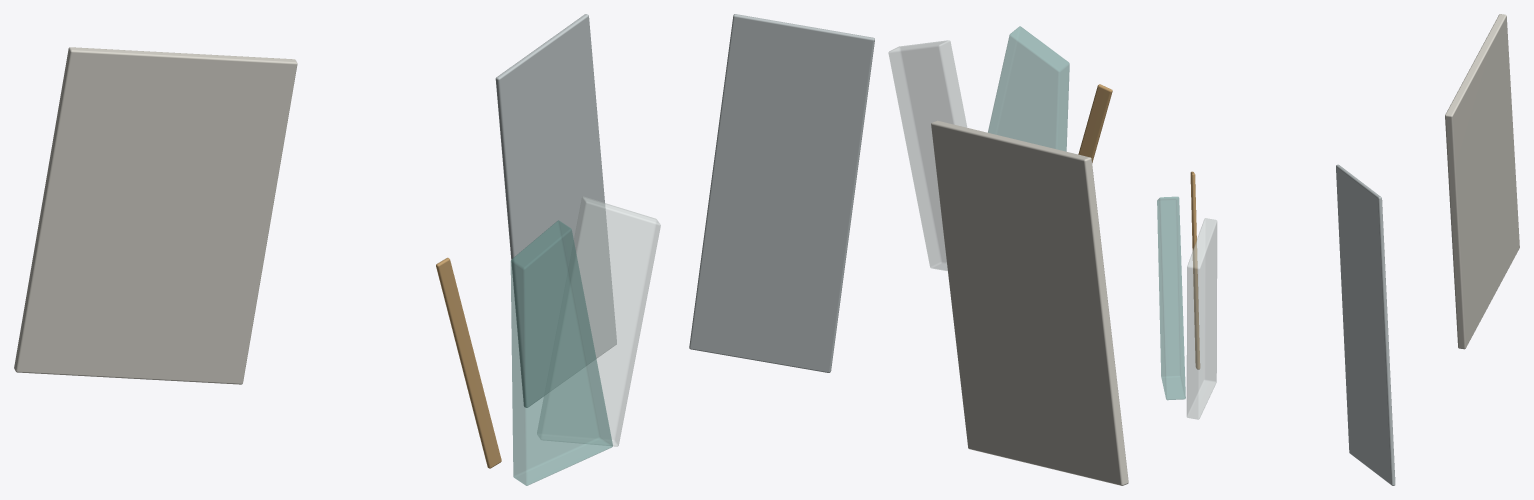
File: optical-assembly.glb
3 renders of one model, left to right at view 1: azimuth 30°, elevation 25°; view 2: azimuth 150°, elevation 25°; view 3: azimuth 270°, elevation 25°, orthographic. The views are drawn at different scales.
Visible parts, largest first — view 1: Distant mineral plane, Distant silver plane, Clear refracting plane, Main optical prism, Champagne light blade; view 2: Distant mineral plane, Distant silver plane, Clear refracting plane, Main optical prism, Champagne light blade; view 3: Distant mineral plane, Distant silver plane, Clear refracting plane, Main optical prism, Champagne light blade.
Boxes of the visible parts, x1=… form: Distant mineral plane: x1=14, y1=47, x2=297, y2=384; Distant silver plane: x1=495, y1=14, x2=616, y2=407; Clear refracting plane: x1=537, y1=196, x2=660, y2=446; Main optical prism: x1=510, y1=220, x2=612, y2=485; Champagne light blade: x1=436, y1=257, x2=501, y2=468; Distant mineral plane: x1=931, y1=120, x2=1128, y2=485; Distant silver plane: x1=689, y1=14, x2=874, y2=372; Clear refracting plane: x1=888, y1=40, x2=966, y2=271; Main optical prism: x1=988, y1=26, x2=1069, y2=151; Champagne light blade: x1=1078, y1=84, x2=1112, y2=162; Distant mineral plane: x1=1445, y1=14, x2=1519, y2=349; Distant silver plane: x1=1336, y1=164, x2=1395, y2=485; Clear refracting plane: x1=1186, y1=218, x2=1217, y2=419; Main optical prism: x1=1157, y1=196, x2=1185, y2=400; Champagne light blade: x1=1190, y1=171, x2=1200, y2=369.
Size of what is drawn, in the model's own units: 20.54 by 14.09 by 15.46.
